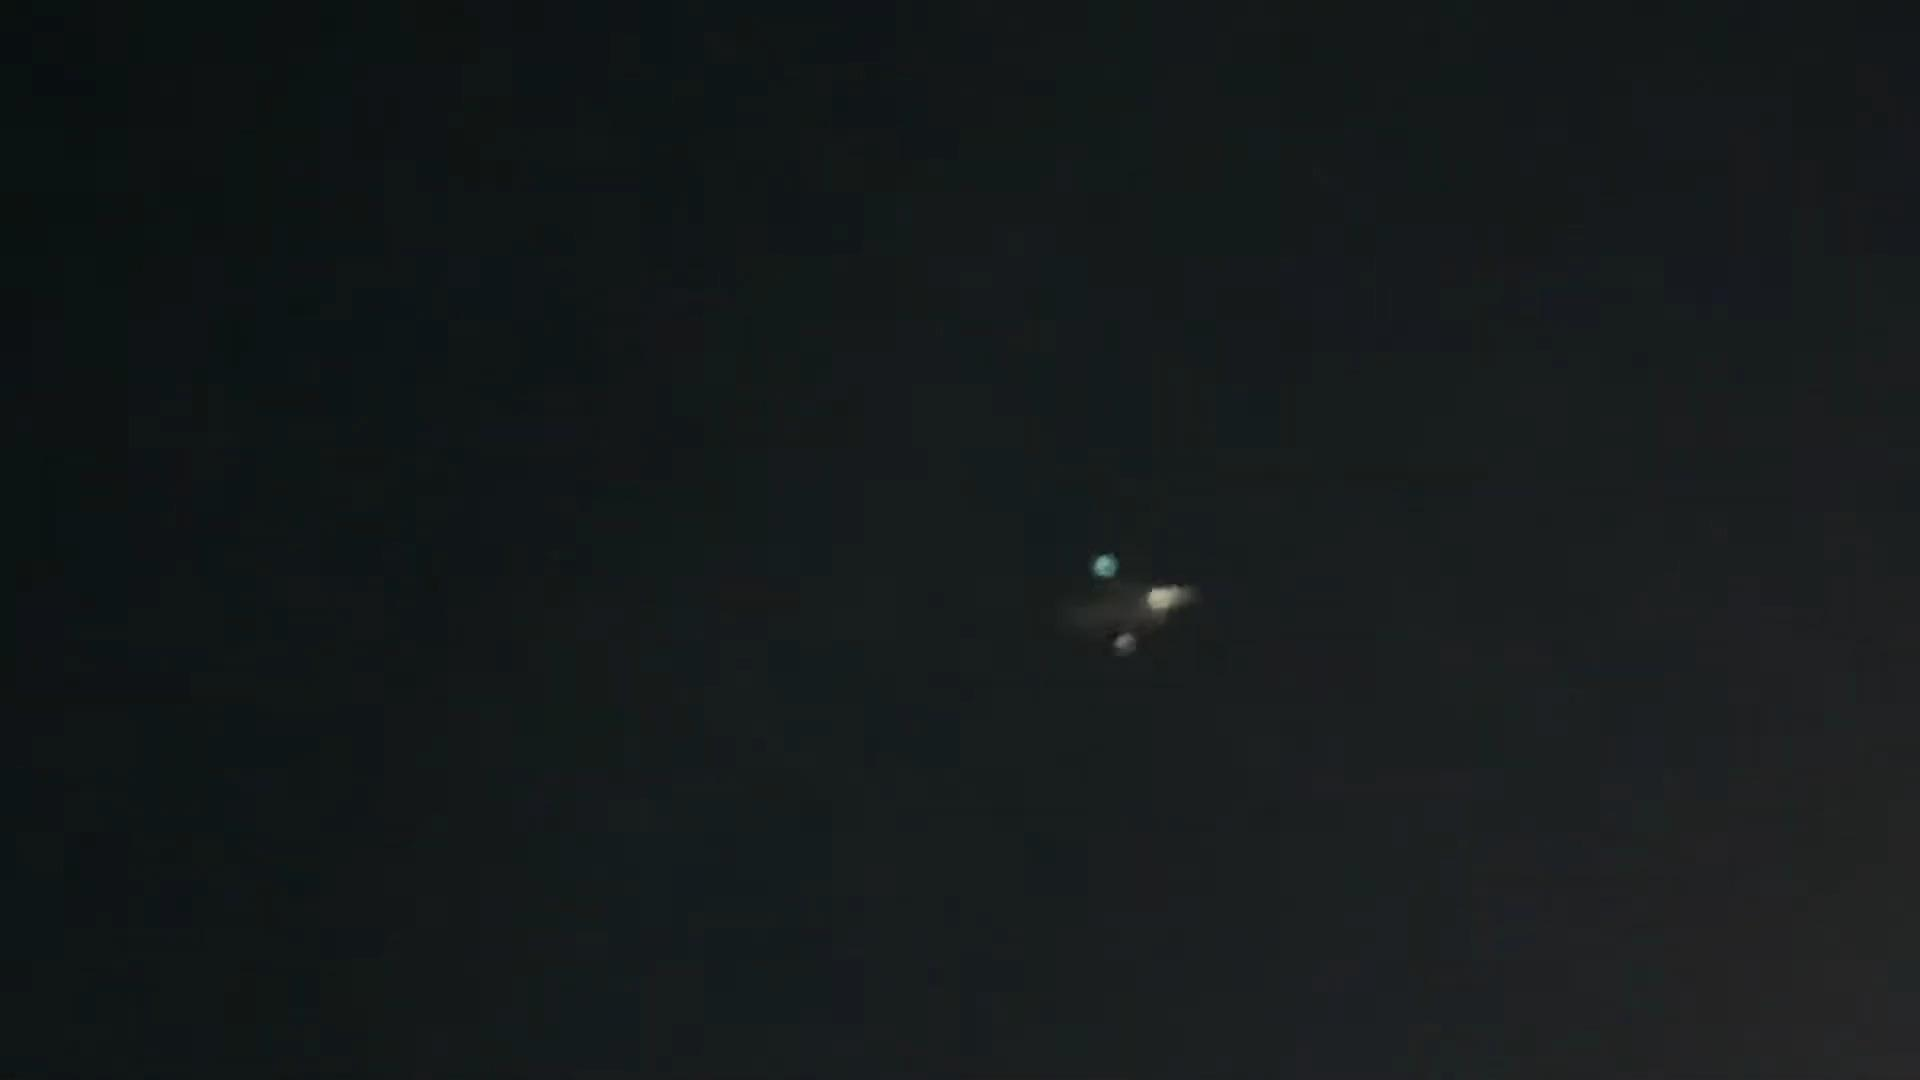Plane: (952, 520, 1303, 690)
